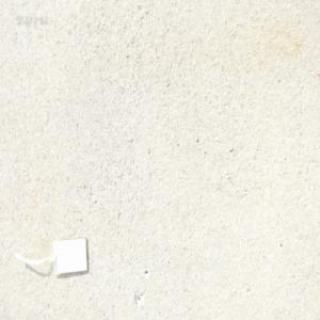LuggageTagtrack_idkeyframe: (13, 234, 90, 279)
